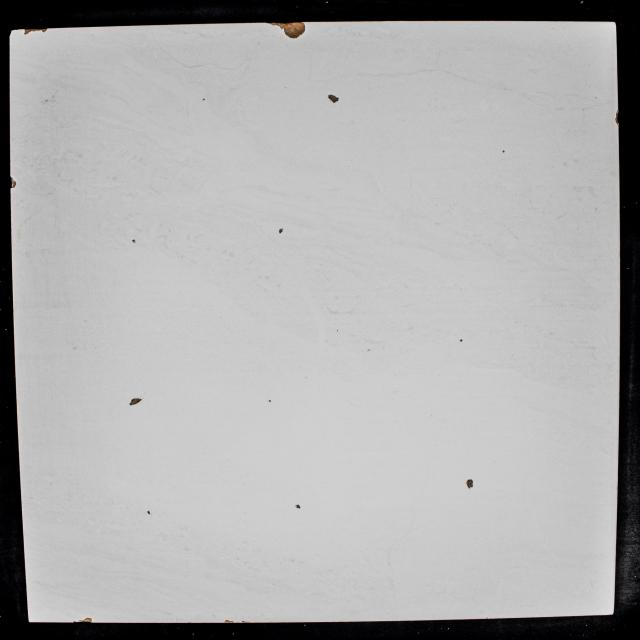edge-chipping: (266, 21, 306, 39), (24, 28, 47, 35), (73, 618, 92, 622), (10, 176, 16, 188), (615, 109, 619, 126), (224, 620, 234, 623), (242, 621, 249, 623), (10, 30, 12, 36)
hole: (328, 95, 340, 104), (129, 398, 142, 406), (466, 479, 473, 489), (278, 228, 284, 234), (296, 504, 301, 509), (268, 399, 272, 403), (147, 510, 151, 514), (502, 150, 506, 153), (459, 339, 463, 342), (132, 240, 136, 243), (202, 98, 205, 101), (367, 349, 370, 351), (336, 330, 338, 332)
